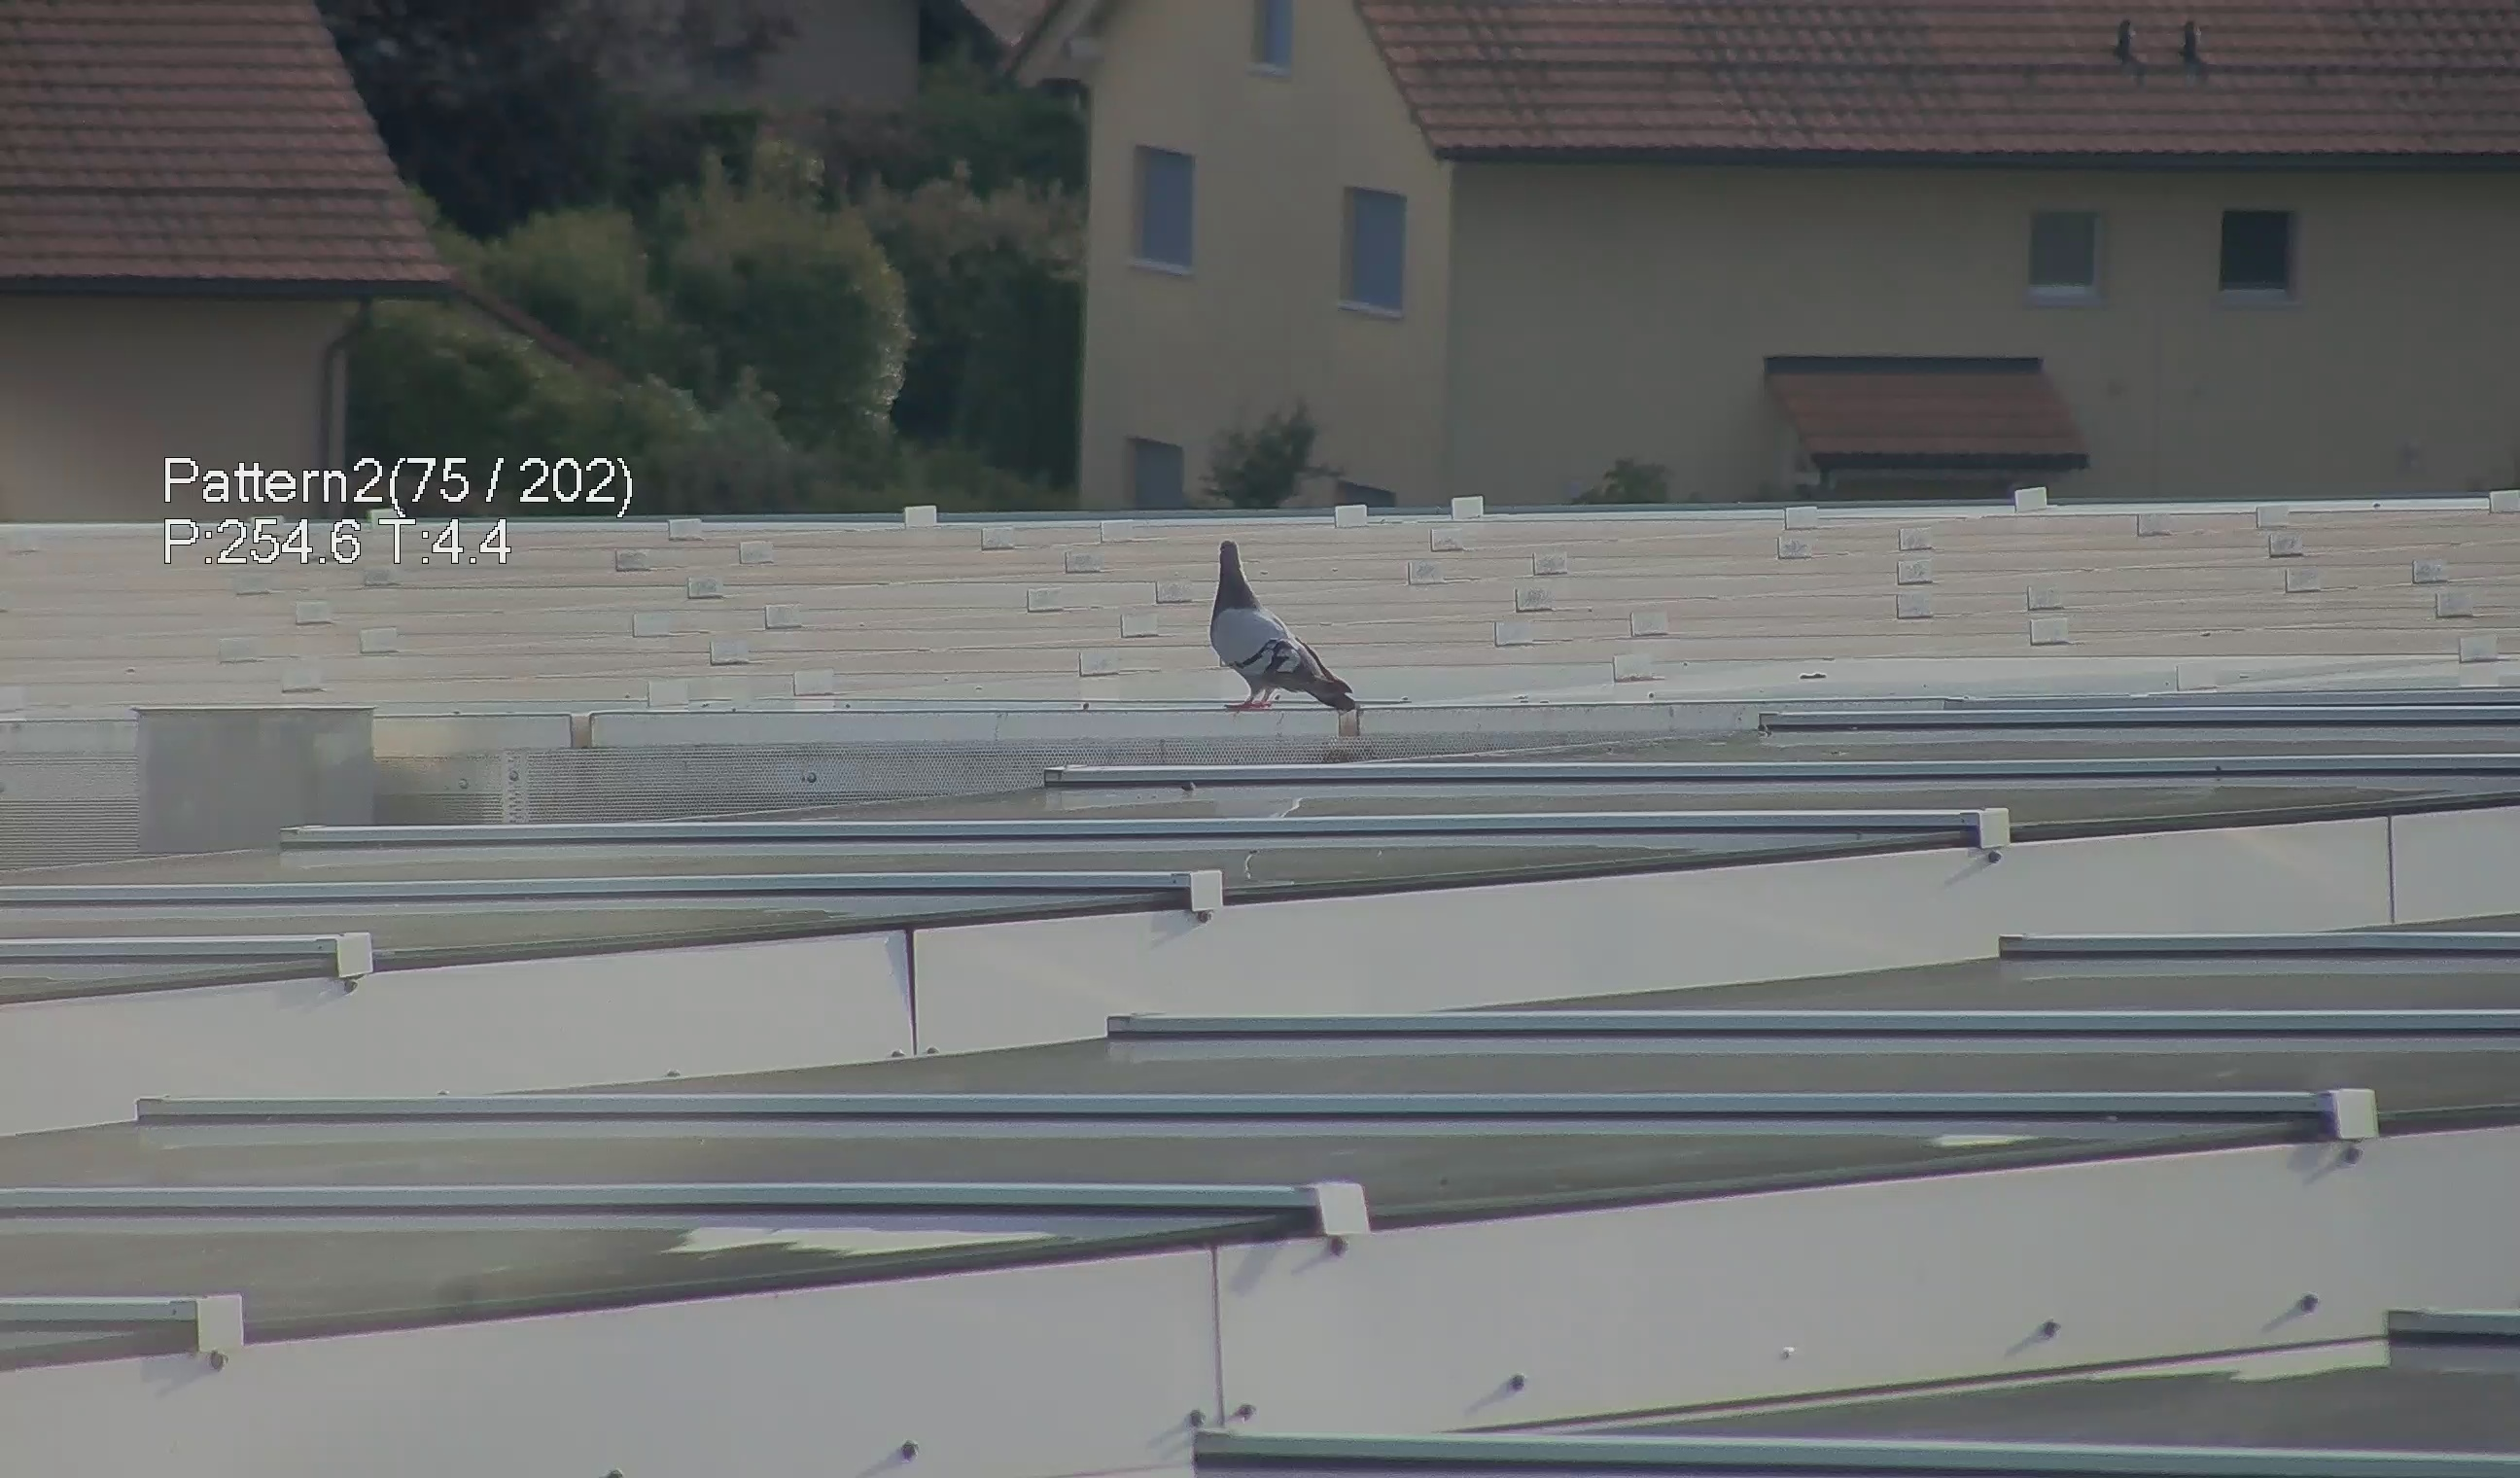Pigeon: (1201, 538, 1365, 732)
